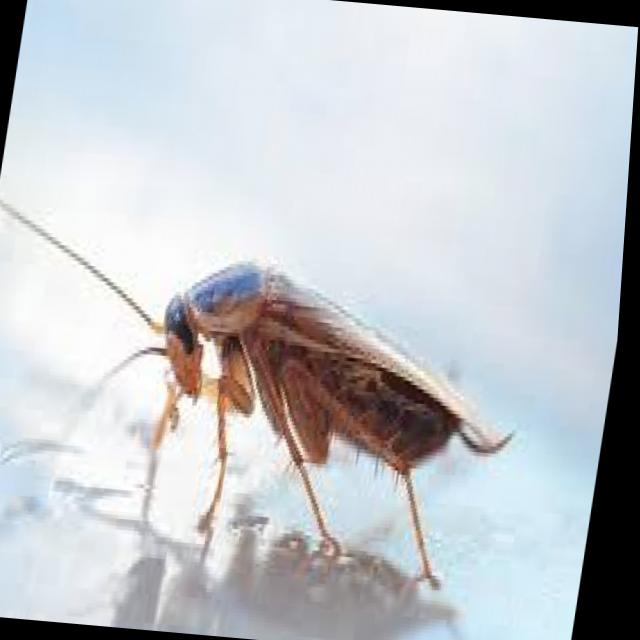Cockroach: (0, 160, 554, 607)
